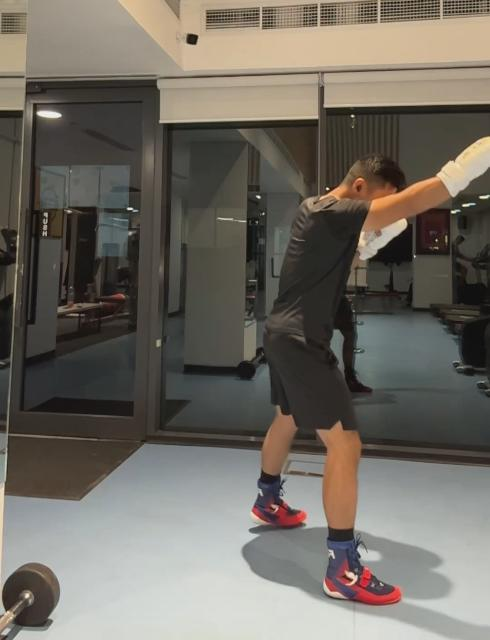punch: (249, 137, 490, 609)
